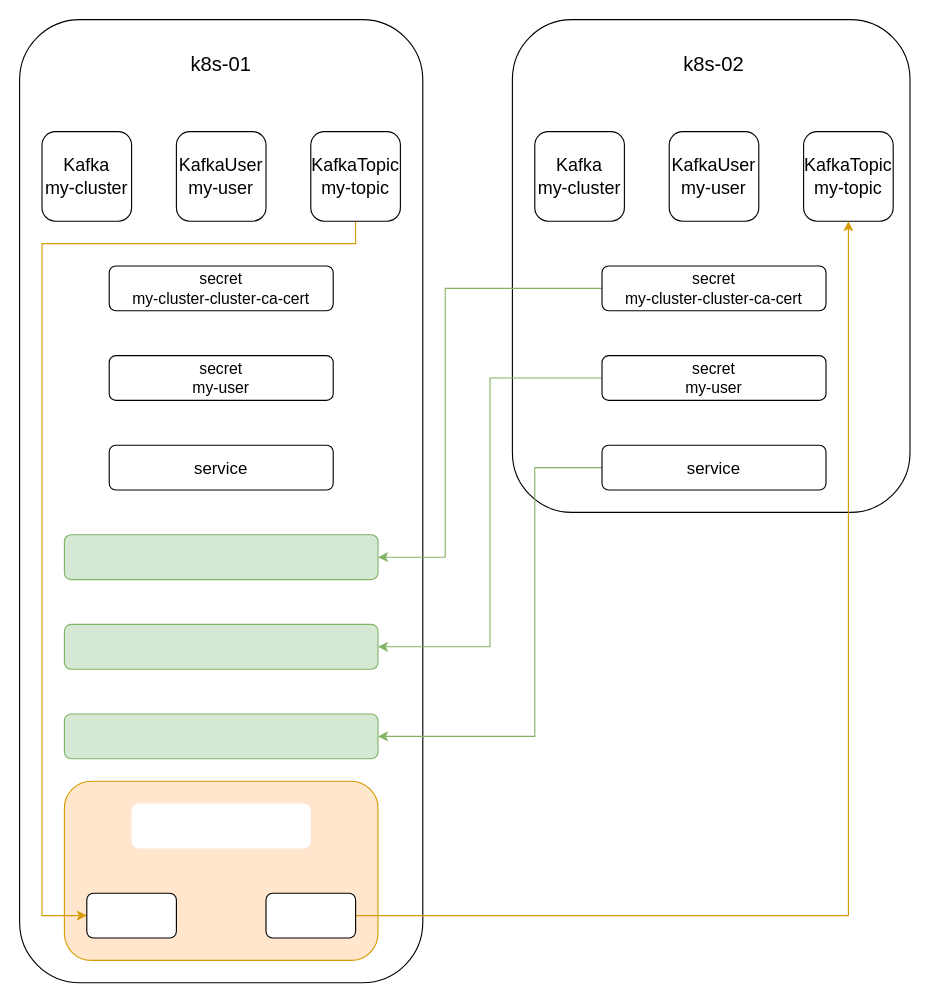
This 930x1002 diagram has some shape labels left out. Here are the shapes that lost their labels. From the top down, the box of each, then its label:
(63, 534, 378, 580): secret destination-my-cluster-cluster-ca-cert
(63, 623, 378, 669): secret destination-my-user
(63, 713, 378, 759): service EndPoint
(131, 803, 310, 848): MirrorMaker my-mirror-maker
(86, 892, 176, 938): Consumer
(265, 892, 356, 938): Producer
